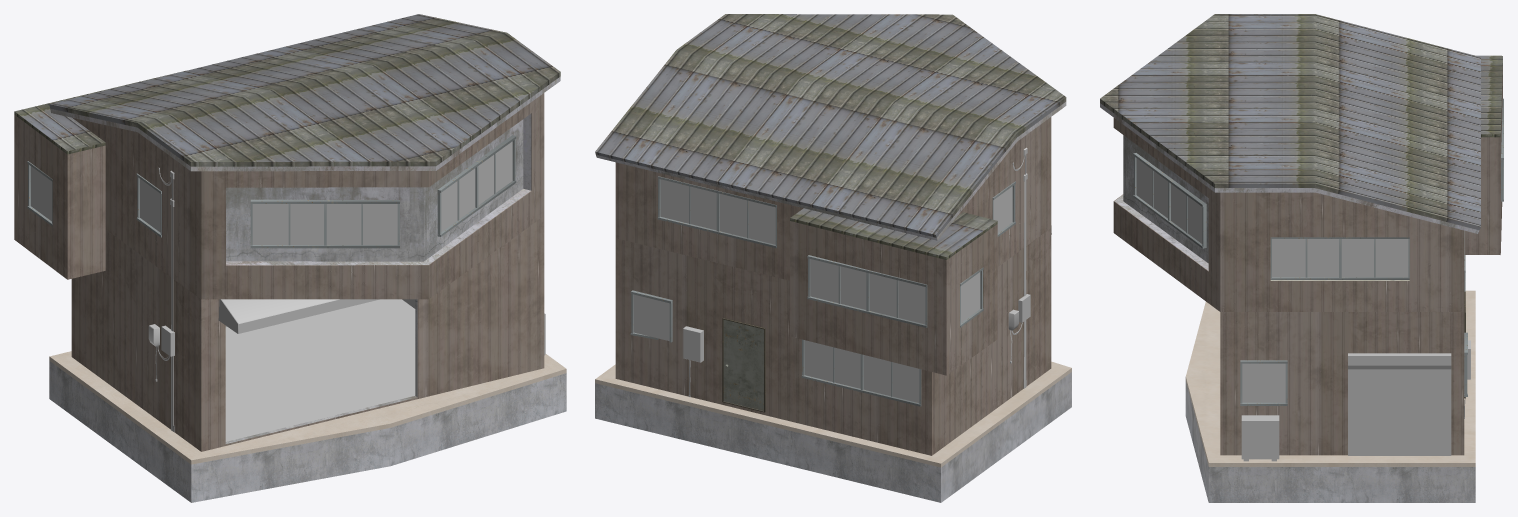
File: ms_kado_e_in.fbx
3 renders of one model, left to right at view 1: azimuth 30°, elevation 25°; view 2: azimuth 150°, elevation 25°; view 3: azimuth 270°, elevation 25°, orthographic. The views are drawn at different scales.
Visible parts, largest first — view 1: ms_kado_e_in; view 2: ms_kado_e_in; view 3: ms_kado_e_in.
Boxes of the visible parts, <box> form: ms_kado_e_in: <box>14,14,566,502</box>; ms_kado_e_in: <box>595,14,1071,502</box>; ms_kado_e_in: <box>1100,14,1503,502</box>.
Bounding box in the file's own units: 1106 × 900 × 1036.
